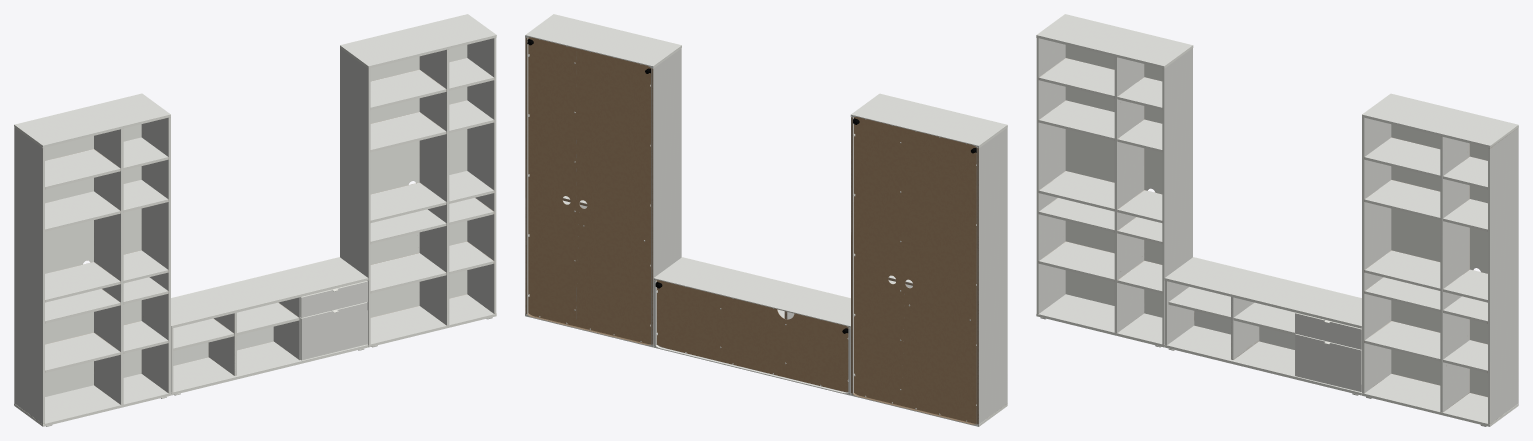
File: vihals_tv_kombinacja_regaowa_59440610.glb
3 renders of one model, left to right at view 1: azimuth 30°, elevation 25°; view 2: azimuth 150°, elevation 25°; view 3: azimuth 330°, elevation 25°, orthographic.
Visible parts, largest first — view 1: vihals_tv_kombinacja_regaowa_59440610; view 2: vihals_tv_kombinacja_regaowa_59440610; view 3: vihals_tv_kombinacja_regaowa_59440610.
Part boxes in pixels (left/top/right/bottom): vihals_tv_kombinacja_regaowa_59440610: left=14, top=14, right=496, bottom=426; vihals_tv_kombinacja_regaowa_59440610: left=525, top=14, right=1007, bottom=426; vihals_tv_kombinacja_regaowa_59440610: left=1036, top=14, right=1518, bottom=426.
Bounding box in the file's own units: 3.37 × 2 × 0.4009.
1 material, 1 textured.
